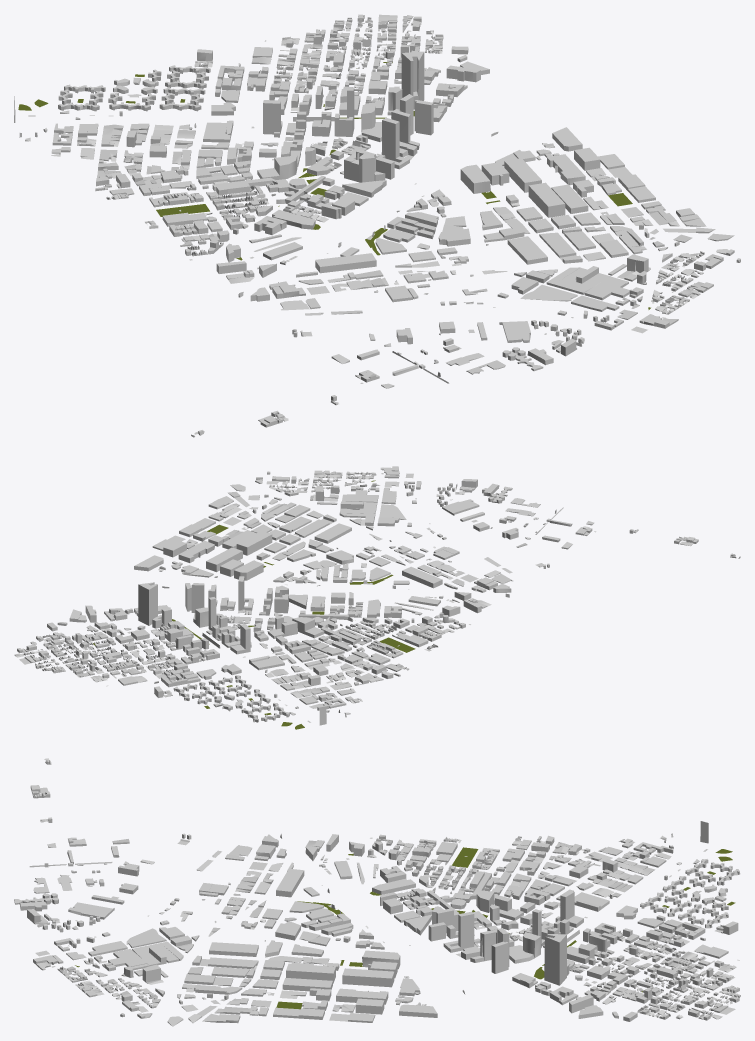
File: area10_lod0-transformed.glb
The picture shows the model from 3 angles, top to bottom: view 1: azimuth 30°, elevation 25°; view 2: azimuth 150°, elevation 25°; view 3: azimuth 270°, elevation 25°; orthographic projection. The views are drawn at different scales.
Parts seen in each view (by area): view 1: Areas:building.007, Areas:leisure.006; view 2: Areas:building.007, Areas:leisure.006; view 3: Areas:building.007, Areas:leisure.006.
Part boxes in pixels (left/top/right/bottom): Areas:building.007: left=14, top=14, right=740, bottom=437; Areas:leisure.006: left=18, top=62, right=650, bottom=309; Areas:building.007: left=14, top=466, right=740, bottom=725; Areas:leisure.006: left=93, top=480, right=415, bottom=729; Areas:building.007: left=14, top=758, right=740, bottom=1026; Areas:leisure.006: left=75, top=847, right=735, bottom=1009.
Bounding box in the file's own units: 3044 × 230 × 3498.
